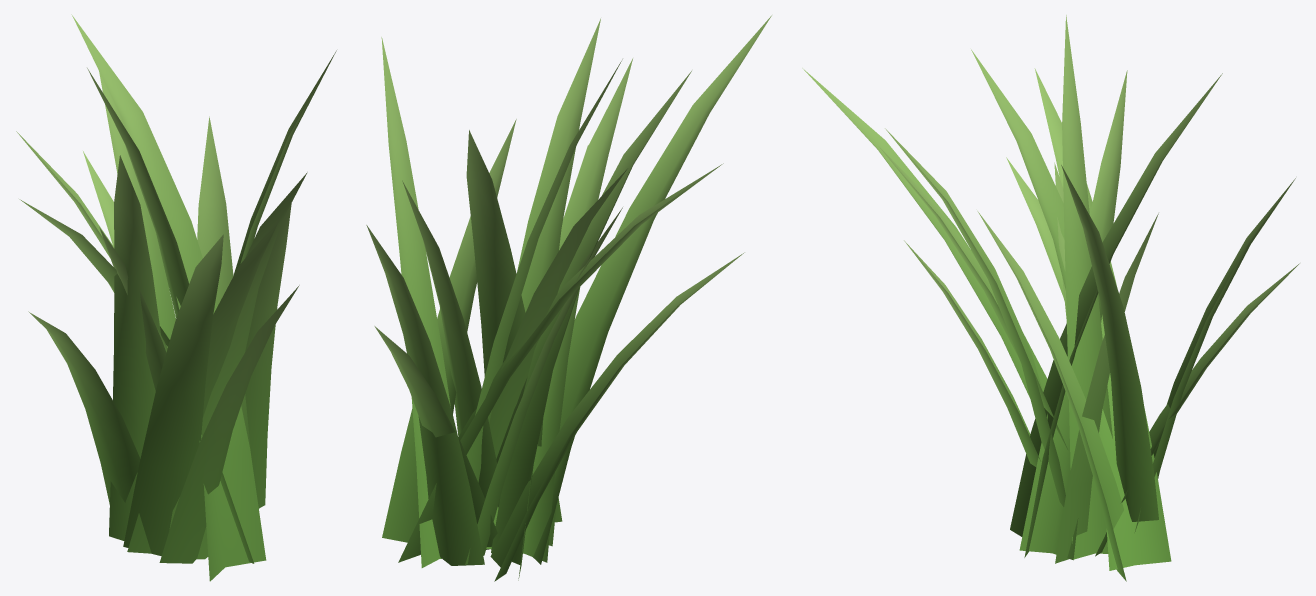
The model's file is decor_touffe_printemps_1.glb.
The picture shows the model from 3 angles, left to right: view 1: azimuth 30°, elevation 25°; view 2: azimuth 150°, elevation 25°; view 3: azimuth 270°, elevation 25°; orthographic projection. The views are drawn at different scales.
Visible parts, largest first — view 1: herbe; view 2: herbe; view 3: herbe.
Part boxes in pixels (x1,y1,x2,y2): herbe: (16,14,336,581); herbe: (366,15,771,581); herbe: (802,15,1299,581).
Bounding box in the file's own units: 0.1034 × 0.1509 × 0.1438.
